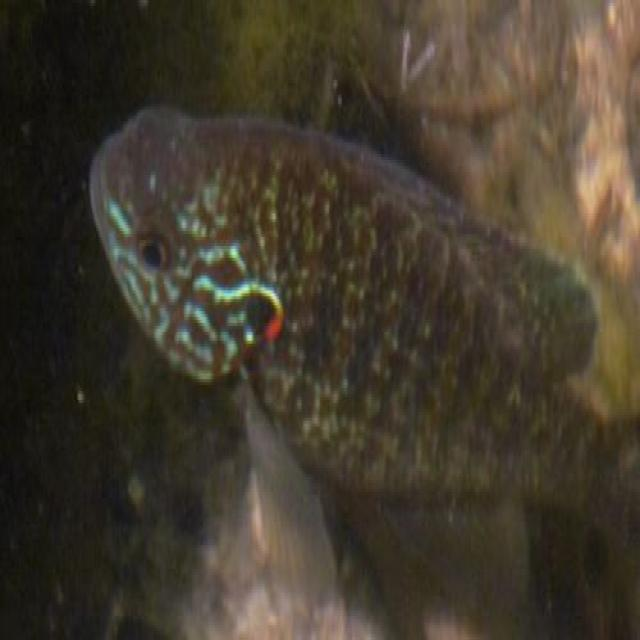Gunes Levregi: (85, 96, 640, 557)
